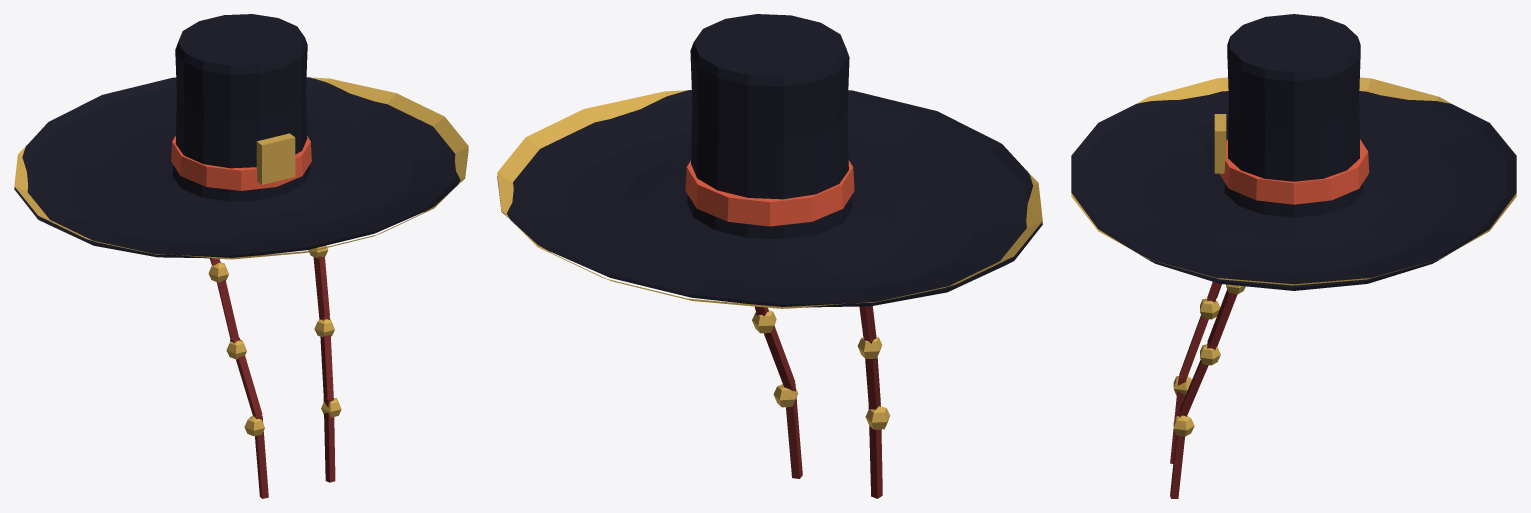
File: gear_gat_t3.glb
3 renders of one model, left to right at view 1: azimuth 30°, elevation 25°; view 2: azimuth 150°, elevation 25°; view 3: azimuth 270°, elevation 25°, orthographic. The views are drawn at different scales.
Parts seen in each view (by area): view 1: gear_gat_t3; view 2: gear_gat_t3; view 3: gear_gat_t3.
Part boxes in pixels (left/top/right/bottom): gear_gat_t3: left=14, top=14, right=468, bottom=498; gear_gat_t3: left=497, top=14, right=1042, bottom=498; gear_gat_t3: left=1071, top=14, right=1516, bottom=498.
Bounding box in the file's own units: 0.86 × 0.8278 × 0.7622.
